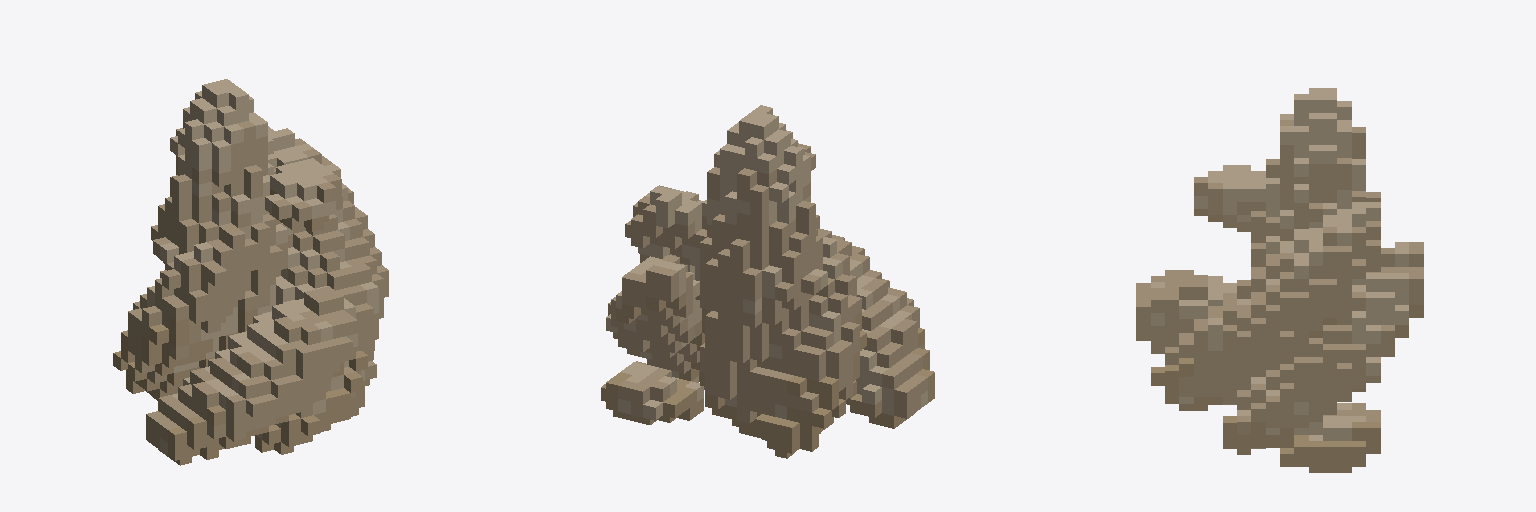
3 views of the same model, side by side, from view 1: azimuth 30°, elevation 25°; view 2: azimuth 150°, elevation 25°; view 3: azimuth 270°, elevation 25° (orthographic).
Visible parts, largest first — view 1: Voxelized_rock4; view 2: Voxelized_rock4; view 3: Voxelized_rock4.
Part boxes in pixels (x1,y1,x2,y2): Voxelized_rock4: (113,79,388,465); Voxelized_rock4: (601,105,934,458); Voxelized_rock4: (1136,88,1423,472).
Size of the model in its own units: 20 by 24 by 20.
Materials: 1 (1 with a texture image).